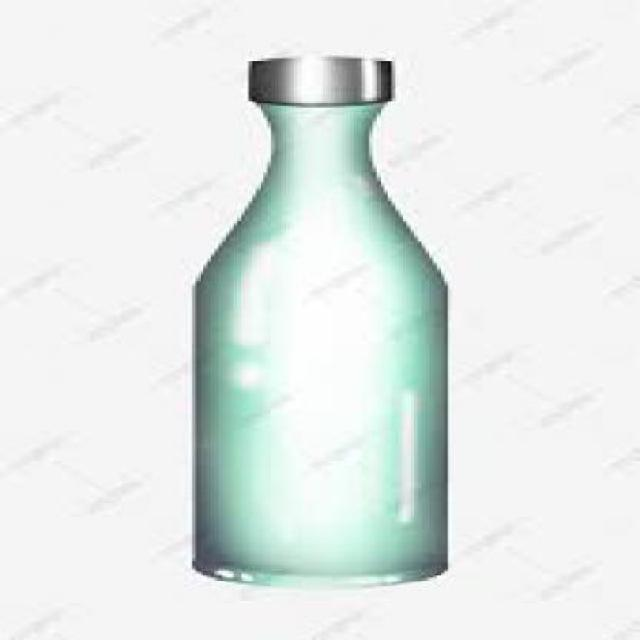kaca: (188, 97, 444, 581)
